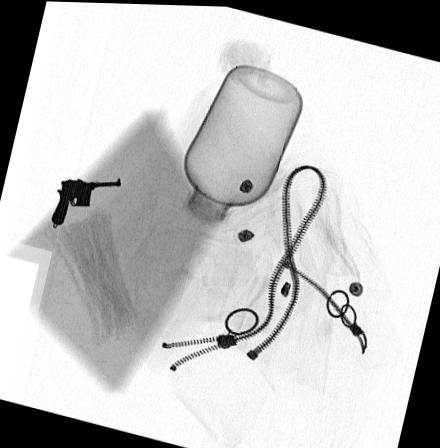Gun: (49, 177, 122, 225)
